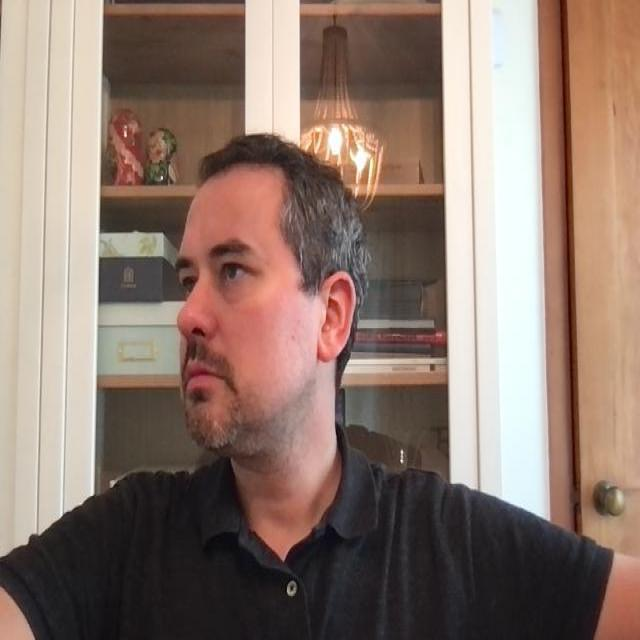face: (175, 131, 362, 461)
